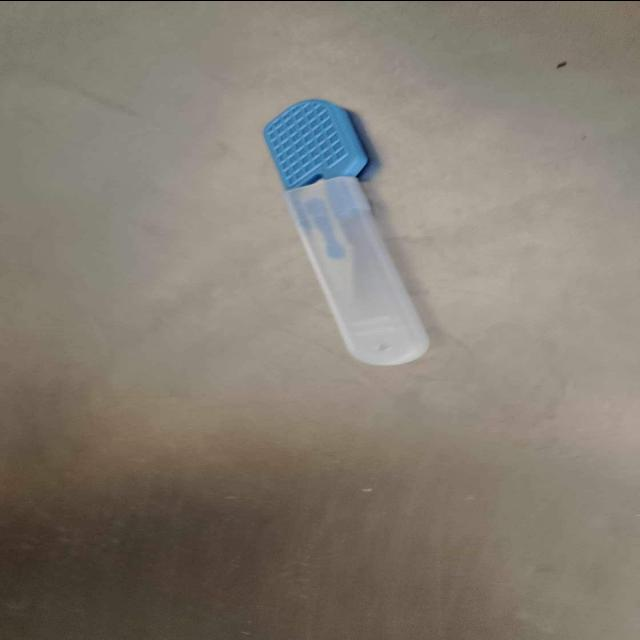General: (4, 3, 634, 638), (260, 97, 372, 190)
Sharps: (259, 98, 432, 366)
